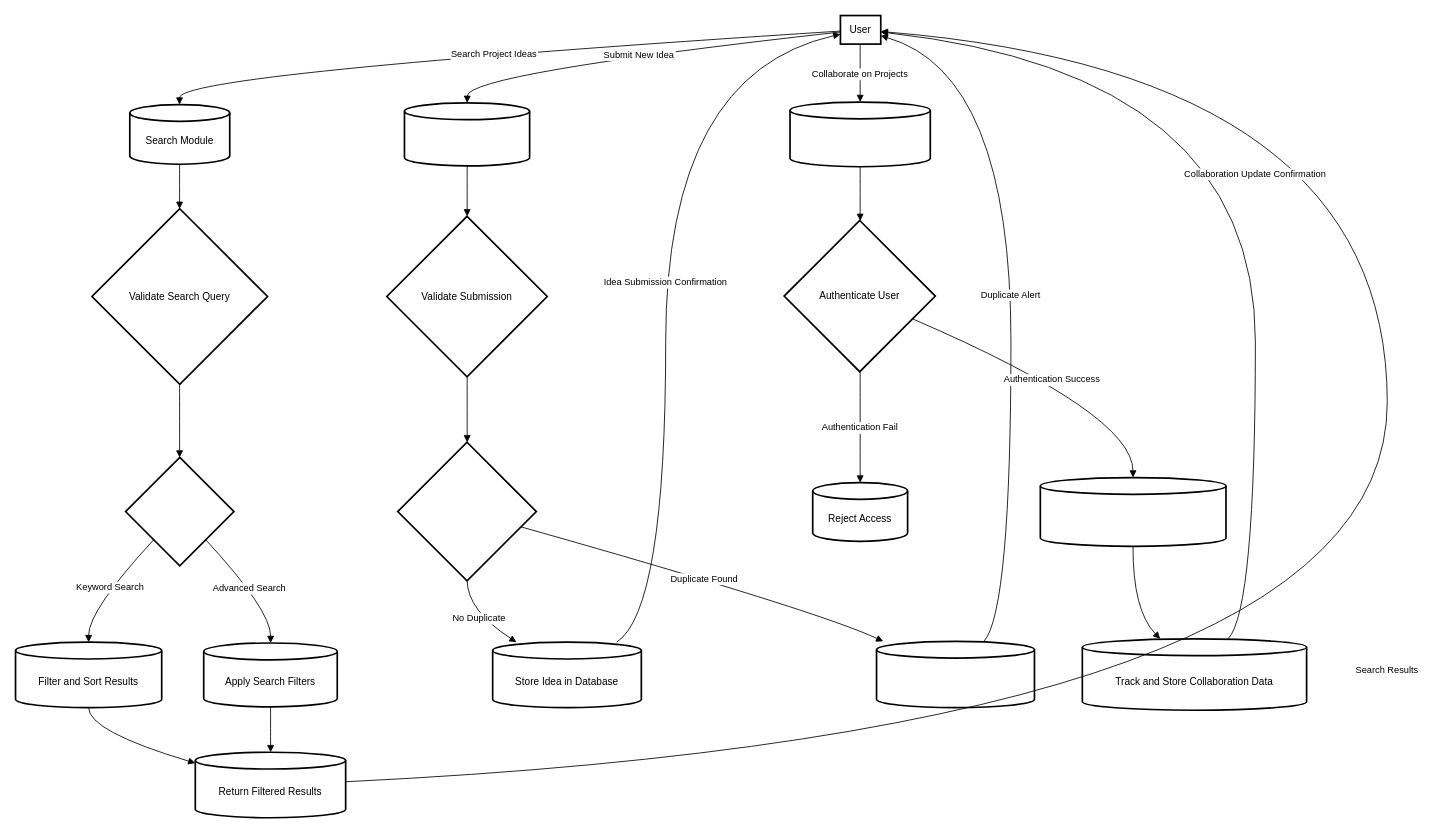
Image size: 1434x832. Some labels were removed from this diagram. Each missing label, with the centre of its shape:
Allow Access to Project Data: the point at 1132,511
Check Duplicate: the point at 466,511
Collaboration Module: the point at 860,134
Notify User of Duplicate: the point at 955,674
Query Type: the point at 179,511
Submission Module: the point at 466,134
